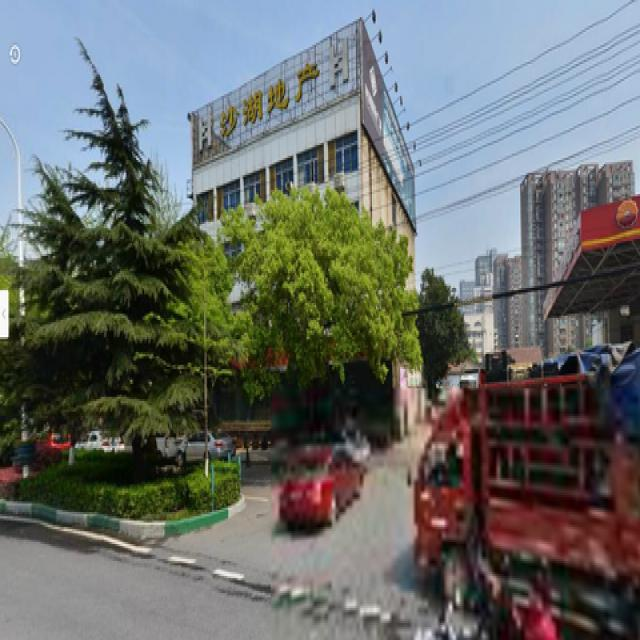cedr: (40, 49, 189, 476)
